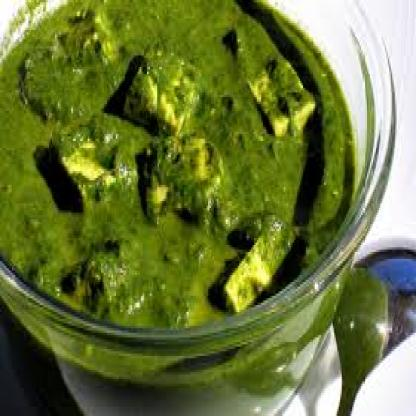palak_paneer: (0, 0, 354, 387)
